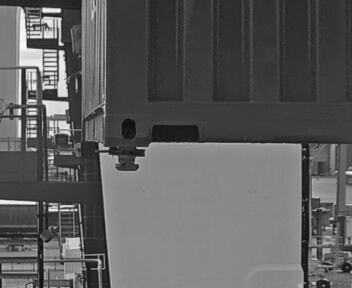twist_lock_1: (102, 139, 149, 180)
